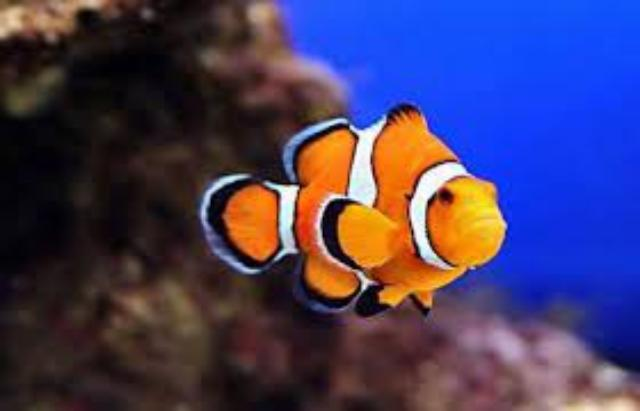Mulut: (450, 206, 520, 252)
Sirip Anal: (280, 243, 366, 321)
Sirip Dada: (314, 192, 408, 278), (340, 276, 448, 332)
Sirip Ekor: (184, 162, 290, 286)
Sirip Punggung: (268, 87, 438, 181)
